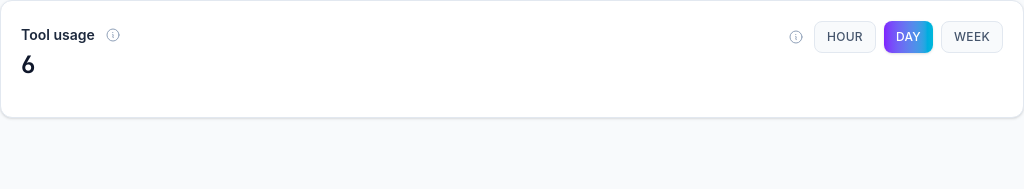
Test: MetricCard › renders title and tool legend after load
Click the button named "About the scale".
click(796, 37)  # box x1=782 y1=23 x2=810 y2=51
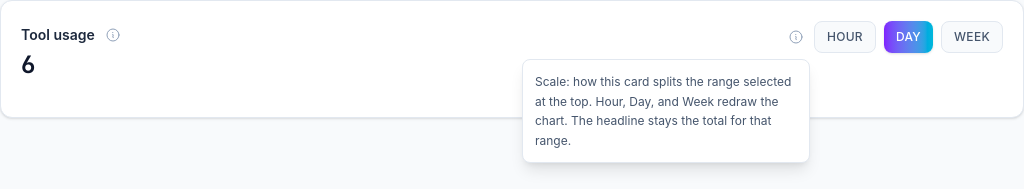
Expected: the element that starts with "Tool usage" shows "Hour, Day, and Week redraw the chart", x1=535 y1=74 x2=791 y2=148
